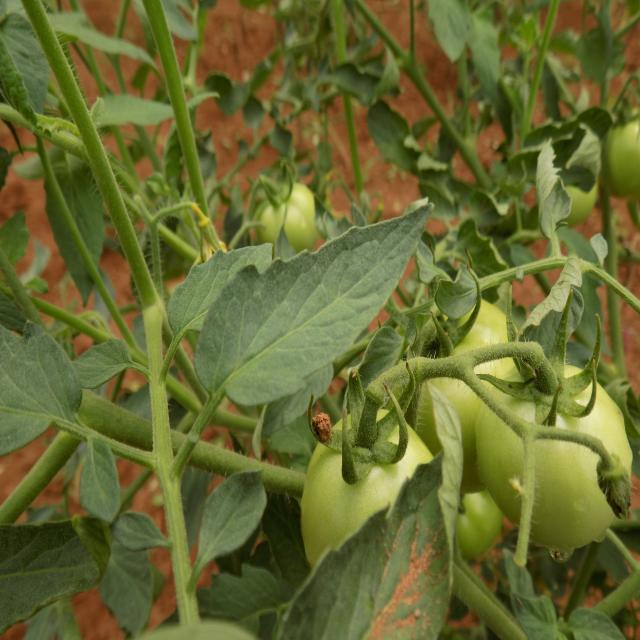tomato_healthy: (195, 199, 434, 406), (157, 234, 284, 335), (191, 461, 273, 572), (62, 335, 132, 396), (76, 438, 120, 531)
